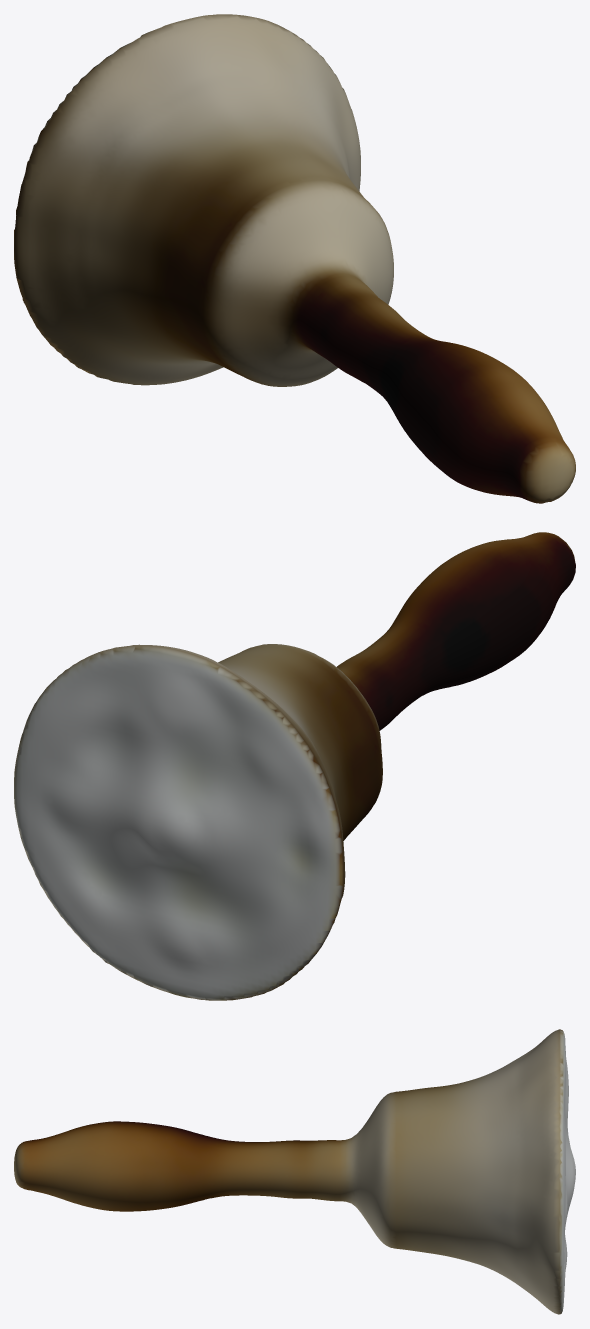
Rendered from bell.glb.
The picture shows the model from 3 angles, top to bottom: view 1: azimuth 30°, elevation 25°; view 2: azimuth 150°, elevation 25°; view 3: azimuth 270°, elevation 25°; orthographic projection. The views are drawn at different scales.
Bounding box in the file's own units: 0.5066 × 0.5057 × 0.9997.
